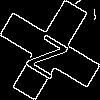Z: (25, 25, 75, 80)
